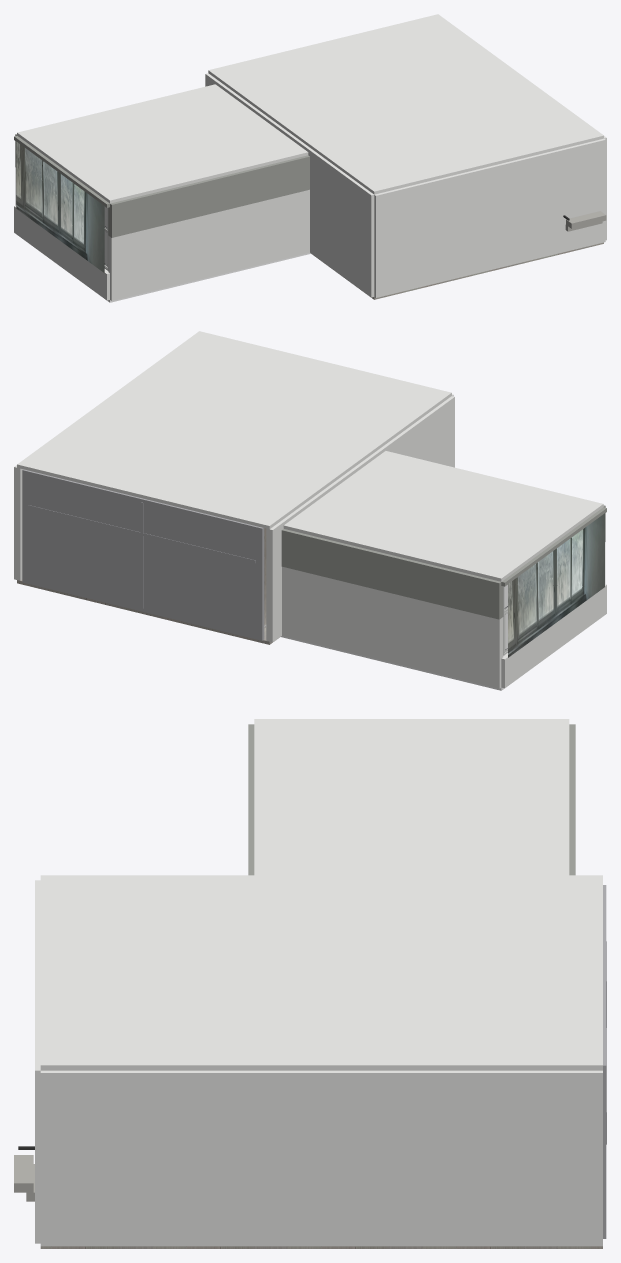
The model's file is meucci-tour.glb.
The picture shows the model from 3 angles, top to bottom: view 1: azimuth 30°, elevation 25°; view 2: azimuth 150°, elevation 25°; view 3: azimuth 270°, elevation 25°; orthographic projection. The views are drawn at different scales.
Visible parts, largest first — view 1: Atrio_Ceiling, Atrio_Wall_Back, Aula3_Ceiling, Aula3_Wall_NegY, Atrio_Wall_Left_A, Aula3_WallBack_Raw, Outside_PhotoBackdrop, Aula3_WinSillWall, Aula3_WinTopWall, Atrio_Floor, Stair_5, Aula3_Floor; view 2: Atrio_Ceiling, Glass_Frame, Aula3_Ceiling, Aula3_WallCat_Low, Aula3_WallCat_Raw, Outside_PhotoBackdrop, Atrio_Wall_Left_A, Aula3_WinSillWall, Atrio_Wall_Left_B, Atrio_Wall_Right, Aula3_WinTopWall, Atrio_Floor (+2 smaller); view 3: Atrio_Ceiling, Atrio_Wall_Right, Aula3_Ceiling, Atrio_Wall_Back, Atrio_Floor, Glass_Frame, Aula3_WallCat_Raw, Aula3_WallBack_Raw, Stair_5.
Boxes of the visible parts, bbox=[...] form: Atrio_Ceiling: bbox=[208, 14, 603, 194]; Atrio_Wall_Back: bbox=[374, 138, 605, 297]; Aula3_Ceiling: bbox=[17, 84, 308, 203]; Aula3_Wall_NegY: bbox=[108, 189, 309, 300]; Atrio_Wall_Left_A: bbox=[243, 101, 374, 297]; Aula3_WallBack_Raw: bbox=[108, 155, 309, 237]; Outside_PhotoBackdrop: bbox=[16, 141, 104, 272]; Aula3_WinSillWall: bbox=[14, 205, 109, 300]; Aula3_WinTopWall: bbox=[14, 135, 109, 207]; Atrio_Floor: bbox=[313, 242, 603, 299]; Stair_5: bbox=[566, 211, 606, 228]; Aula3_Floor: bbox=[107, 252, 310, 302]; Atrio_Ceiling: bbox=[17, 331, 451, 529]; Glass_Frame: bbox=[22, 469, 264, 640]; Aula3_Ceiling: bbox=[283, 451, 603, 581]; Aula3_WallCat_Low: bbox=[282, 566, 503, 688]; Aula3_WallCat_Raw: bbox=[281, 529, 503, 619]; Outside_PhotoBackdrop: bbox=[508, 513, 604, 657]; Atrio_Wall_Left_A: bbox=[312, 396, 454, 502]; Aula3_WinSillWall: bbox=[501, 584, 606, 688]; Atrio_Wall_Left_B: bbox=[266, 517, 289, 642]; Atrio_Wall_Right: bbox=[14, 465, 22, 580]; Aula3_WinTopWall: bbox=[501, 507, 606, 586]; Atrio_Floor: bbox=[17, 579, 279, 644]; Atrio_Ceiling: bbox=[40, 875, 602, 1070]; Atrio_Wall_Right: bbox=[40, 1070, 602, 1246]; Aula3_Ceiling: bbox=[254, 719, 569, 875]; Atrio_Wall_Back: bbox=[35, 880, 40, 1243]; Atrio_Floor: bbox=[40, 1246, 602, 1248]; Glass_Frame: bbox=[603, 885, 606, 1238]; Aula3_WallCat_Raw: bbox=[569, 724, 575, 875]; Aula3_WallBack_Raw: bbox=[248, 724, 254, 875]; Stair_5: bbox=[14, 1155, 33, 1192].
Size of the model in its own units: 15.22 by 3.6 by 10.55.
54 materials, 13 textured.
